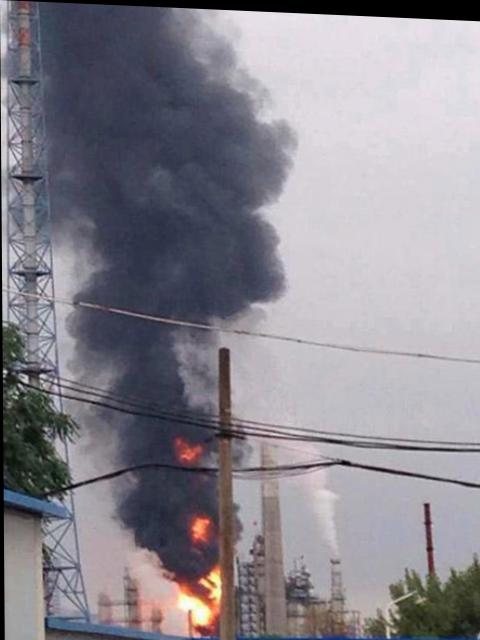fire: (178, 591, 218, 625), (196, 560, 219, 597), (172, 436, 200, 458), (187, 512, 209, 540)
